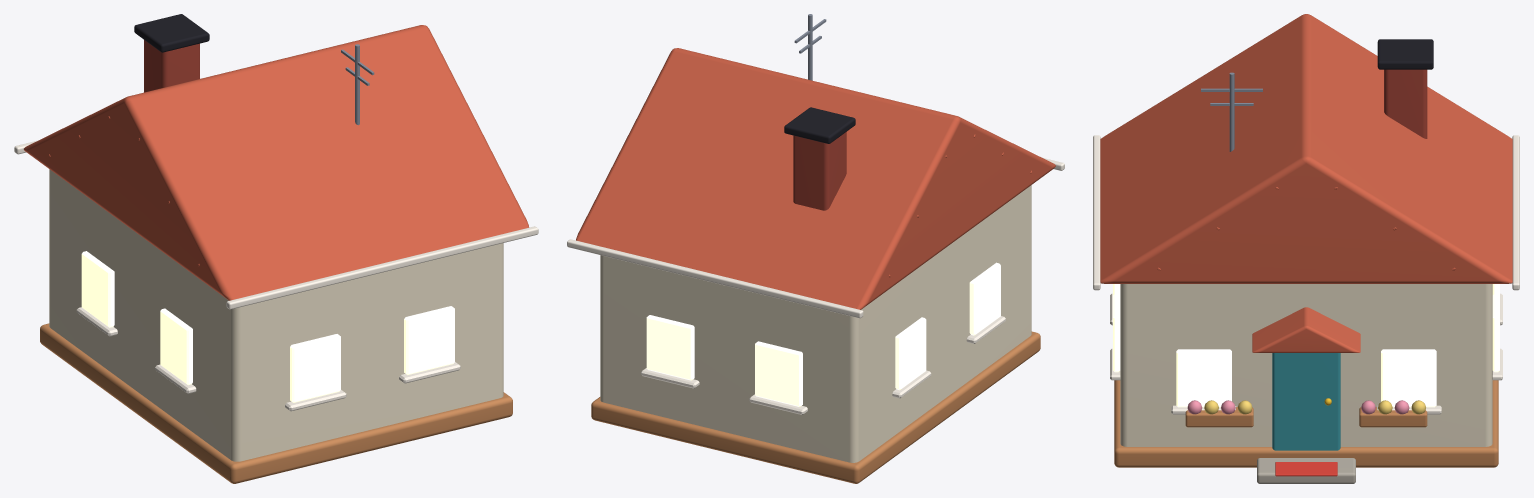
The model's file is house.glb.
3 renders of one model, left to right at view 1: azimuth 30°, elevation 25°; view 2: azimuth 150°, elevation 25°; view 3: azimuth 270°, elevation 25°, orthographic. The views are drawn at different scales.
Visible parts, largest first — view 1: house; view 2: house; view 3: house.
Part boxes in pixels (box(x1,y1,x2,y2)): house: box(14, 14, 538, 483); house: box(567, 14, 1064, 483); house: box(1093, 14, 1519, 483).
Size of the model in its own units: 6.15 by 6.2 by 6.88.
Materials: 1 (1 with a texture image).
